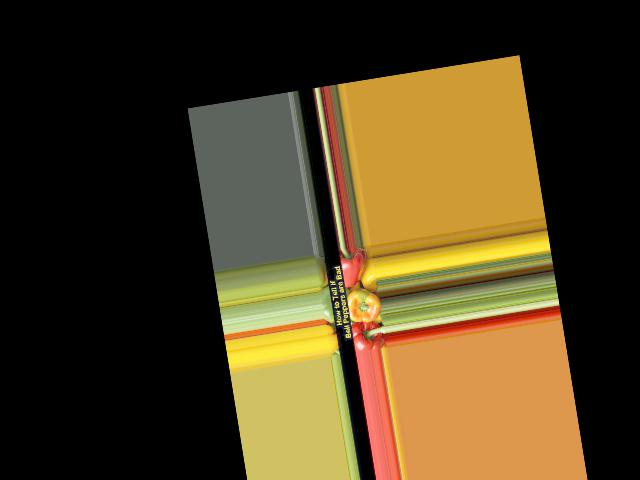bell_pepper: (348, 316, 387, 351)
